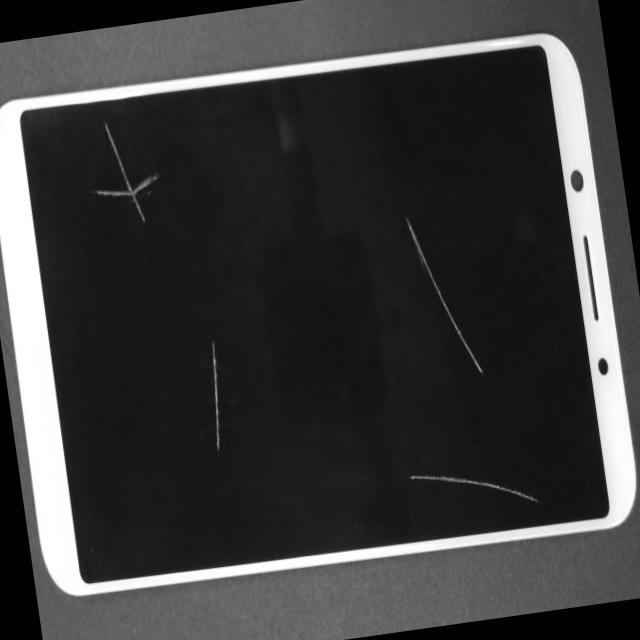scratch: (401, 210, 484, 384), (84, 116, 165, 234), (406, 459, 536, 519), (200, 343, 230, 456)
